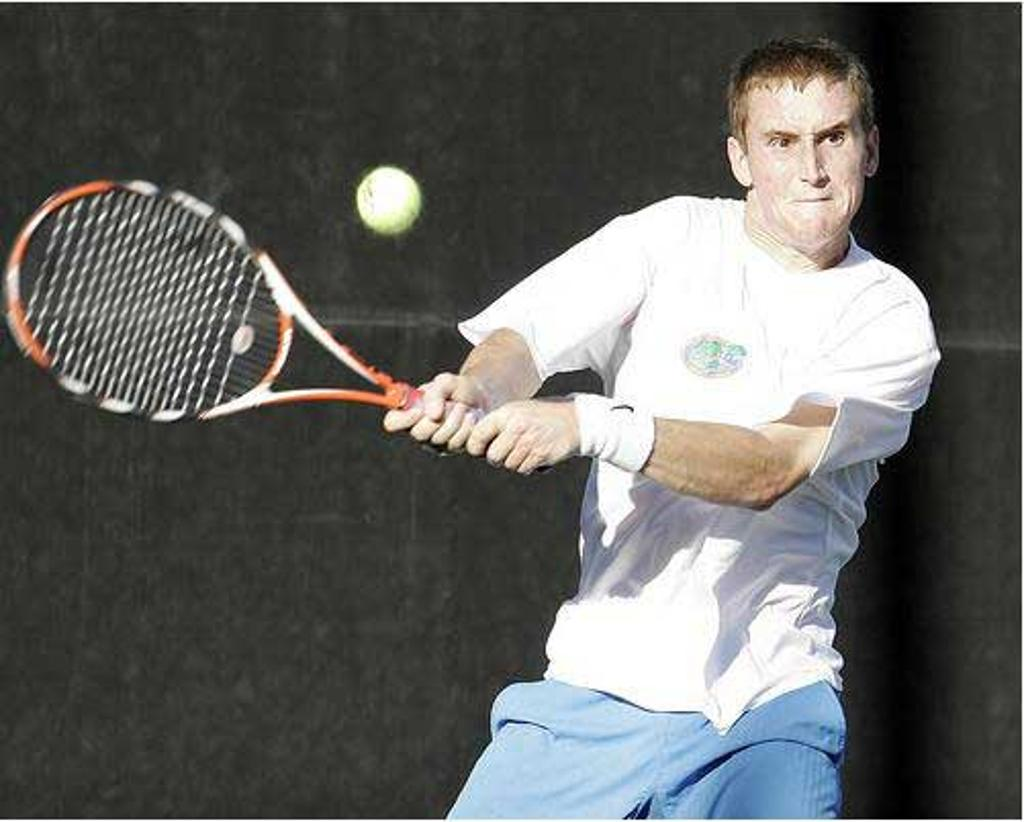face: (750, 88, 862, 244)
